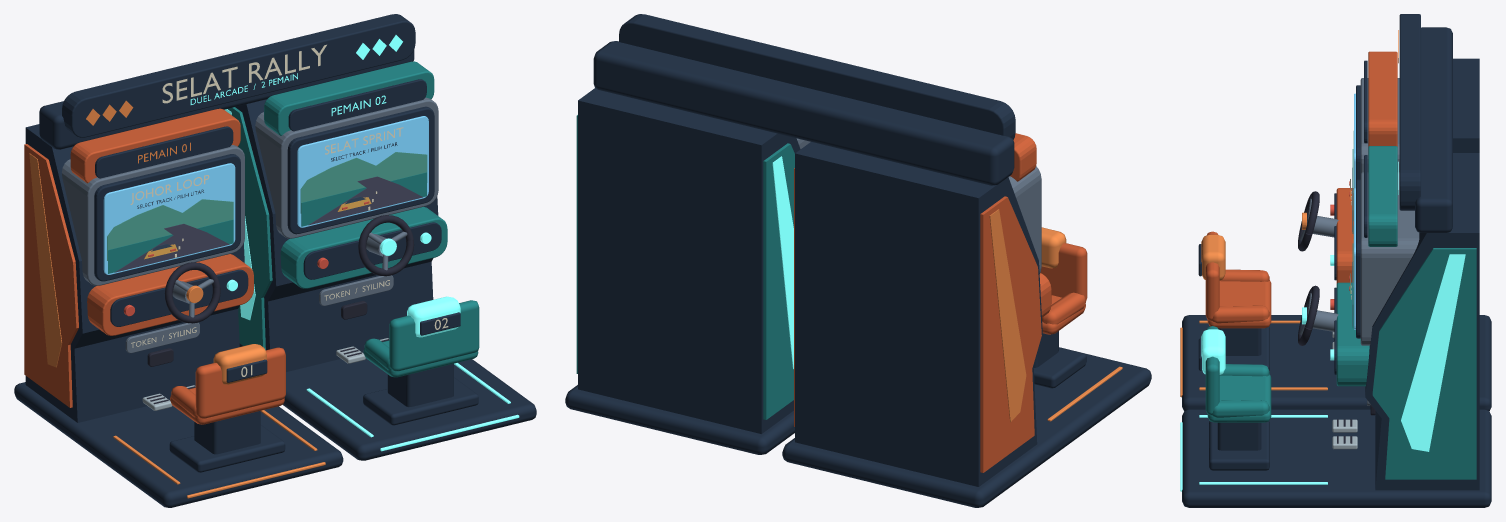
3 renders of one model, left to right at view 1: azimuth 30°, elevation 25°; view 2: azimuth 150°, elevation 25°; view 3: azimuth 270°, elevation 25°, orthographic. The views are drawn at different scales.
Parts seen in each view (by area): view 1: Selat Rally | Tandem Racing Arcade - Cabinets, Selat Rally | Tandem Racing Arcade - Marquee, Selat Rally | Tandem Racing Arcade - Drive Platforms, Selat Rally | Tandem Racing Arcade - Screens, Selat Rally | Tandem Racing Arcade - Seating, Selat Rally | Tandem Racing Arcade - Controls, Selat Rally | Tandem Racing Arcade - Graphics; view 2: Selat Rally | Tandem Racing Arcade - Cabinets, Selat Rally | Tandem Racing Arcade - Marquee, Selat Rally | Tandem Racing Arcade - Drive Platforms, Selat Rally | Tandem Racing Arcade - Seating, Selat Rally | Tandem Racing Arcade - Graphics; view 3: Selat Rally | Tandem Racing Arcade - Cabinets, Selat Rally | Tandem Racing Arcade - Drive Platforms, Selat Rally | Tandem Racing Arcade - Marquee, Selat Rally | Tandem Racing Arcade - Seating, Selat Rally | Tandem Racing Arcade - Controls, Selat Rally | Tandem Racing Arcade - Graphics, Selat Rally | Tandem Racing Arcade - Screens.
Boxes of the visible parts, x1=… form: Selat Rally | Tandem Racing Arcade - Cabinets: x1=24, y1=97, x2=438, y2=422; Selat Rally | Tandem Racing Arcade - Marquee: x1=39, y1=14, x2=434, y2=183; Selat Rally | Tandem Racing Arcade - Drive Platforms: x1=14, y1=358, x2=536, y2=507; Selat Rally | Tandem Racing Arcade - Screens: x1=103, y1=116, x2=428, y2=274; Selat Rally | Tandem Racing Arcade - Seating: x1=169, y1=296, x2=479, y2=472; Selat Rally | Tandem Racing Arcade - Controls: x1=87, y1=206, x2=447, y2=410; Selat Rally | Tandem Racing Arcade - Graphics: x1=29, y1=35, x2=448, y2=376; Selat Rally | Tandem Racing Arcade - Cabinets: x1=576, y1=88, x2=1042, y2=486; Selat Rally | Tandem Racing Arcade - Marquee: x1=593, y1=14, x2=1036, y2=185; Selat Rally | Tandem Racing Arcade - Drive Platforms: x1=565, y1=347, x2=1151, y2=507; Selat Rally | Tandem Racing Arcade - Seating: x1=1033, y1=227, x2=1087, y2=388; Selat Rally | Tandem Racing Arcade - Graphics: x1=772, y1=156, x2=1026, y2=422; Selat Rally | Tandem Racing Arcade - Cabinets: x1=1356, y1=58, x2=1479, y2=490; Selat Rally | Tandem Racing Arcade - Drive Platforms: x1=1180, y1=315, x2=1491, y2=507; Selat Rally | Tandem Racing Arcade - Marquee: x1=1364, y1=14, x2=1452, y2=246; Selat Rally | Tandem Racing Arcade - Seating: x1=1198, y1=231, x2=1271, y2=470; Selat Rally | Tandem Racing Arcade - Controls: x1=1298, y1=188, x2=1375, y2=449; Selat Rally | Tandem Racing Arcade - Graphics: x1=1367, y1=30, x2=1465, y2=451; Selat Rally | Tandem Racing Arcade - Screens: x1=1349, y1=93, x2=1355, y2=329.
Bounding box in the file's own units: 3.05 × 2.55 × 2.2.
